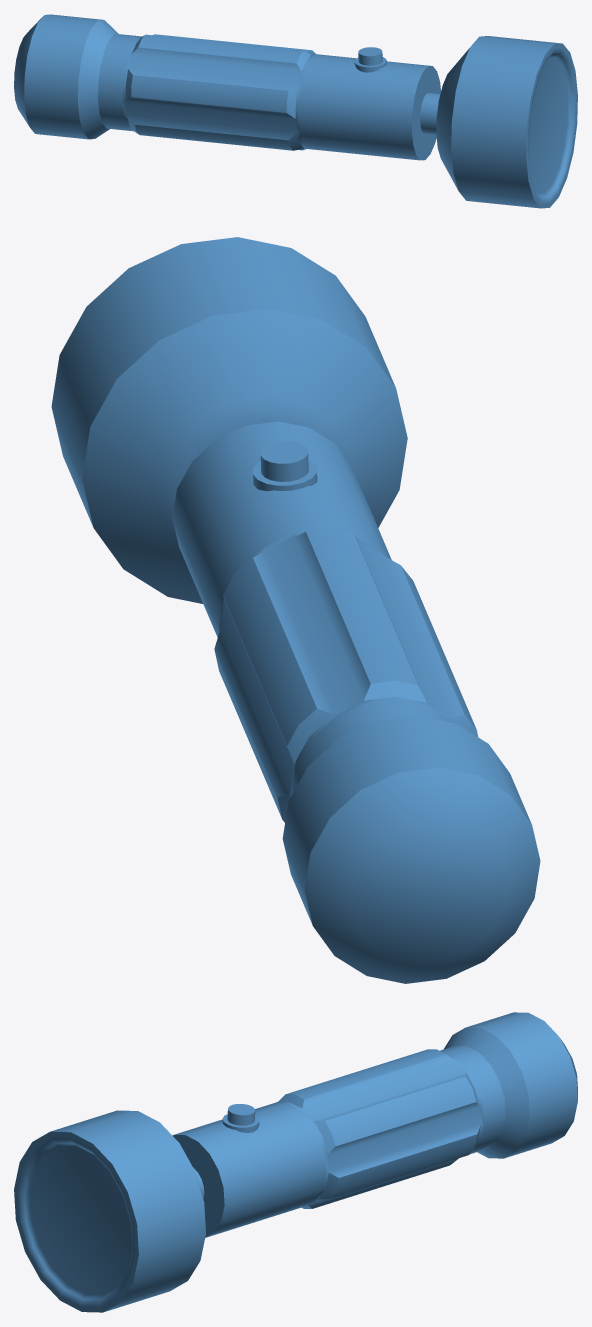
File: Flashlight.fbx
The picture shows the model from 3 angles, top to bottom: view 1: azimuth 30°, elevation 25°; view 2: azimuth 150°, elevation 25°; view 3: azimuth 270°, elevation 25°; orthographic projection. The views are drawn at different scales.
Parts seen in each view (by area): view 1: Flashlight; view 2: Flashlight; view 3: Flashlight.
Part boxes in pixels (box(x1,y1,x2,y2)): Flashlight: box(14, 14, 577, 208); Flashlight: box(51, 237, 540, 983); Flashlight: box(14, 1012, 577, 1312).
Size of the model in its own units: 8.57 by 3.15 by 9.31.
